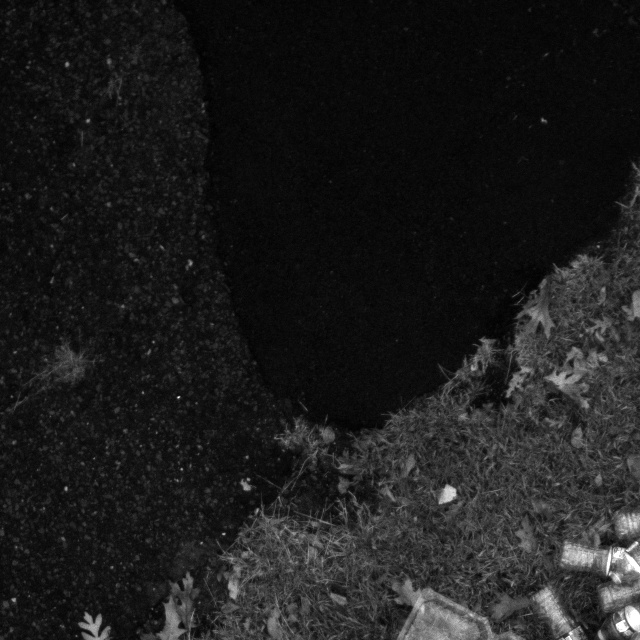bottle: (559, 543, 640, 594), (526, 582, 588, 640), (588, 555, 640, 616)
container: (363, 583, 558, 640)
